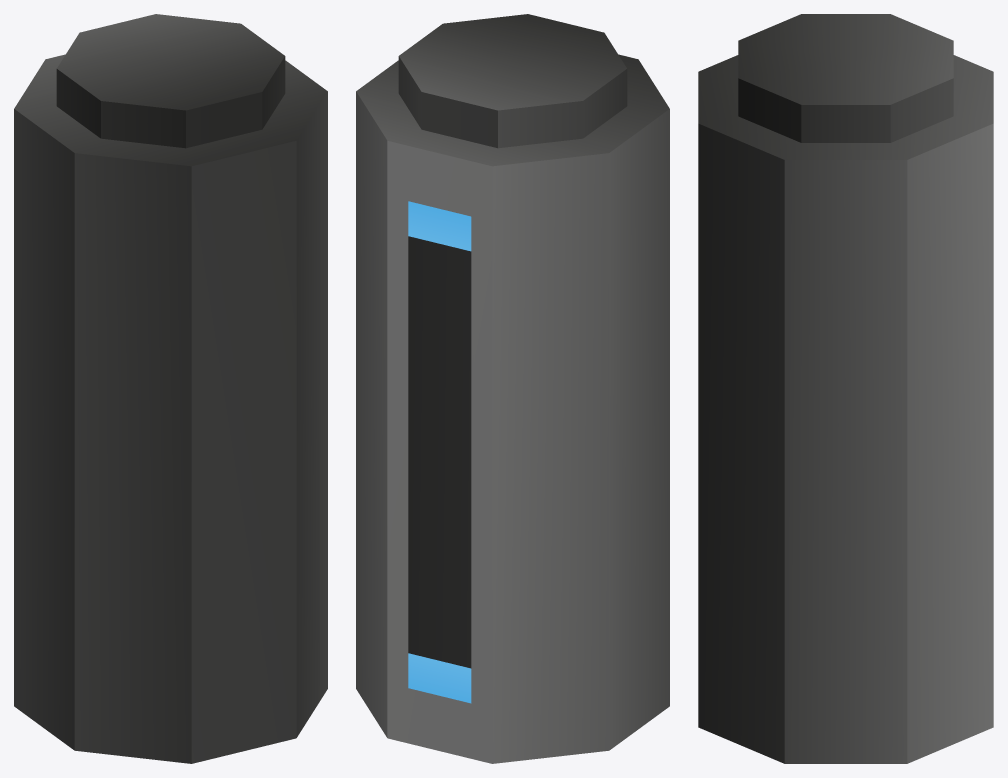
The model's file is Grenade_mesh.fbx.
The picture shows the model from 3 angles, left to right: view 1: azimuth 30°, elevation 25°; view 2: azimuth 150°, elevation 25°; view 3: azimuth 270°, elevation 25°; orthographic projection.
Parts seen in each view (by area): view 1: Grenade_mesh; view 2: Grenade_mesh; view 3: Grenade_mesh.
Boxes of the visible parts, x1,y1,x2,y2 form: Grenade_mesh: [14, 14, 327, 763]; Grenade_mesh: [356, 14, 669, 763]; Grenade_mesh: [698, 14, 993, 763].
Bounding box in the file's own units: 5.21 × 12.48 × 5.21.
2 materials, 1 textured.
